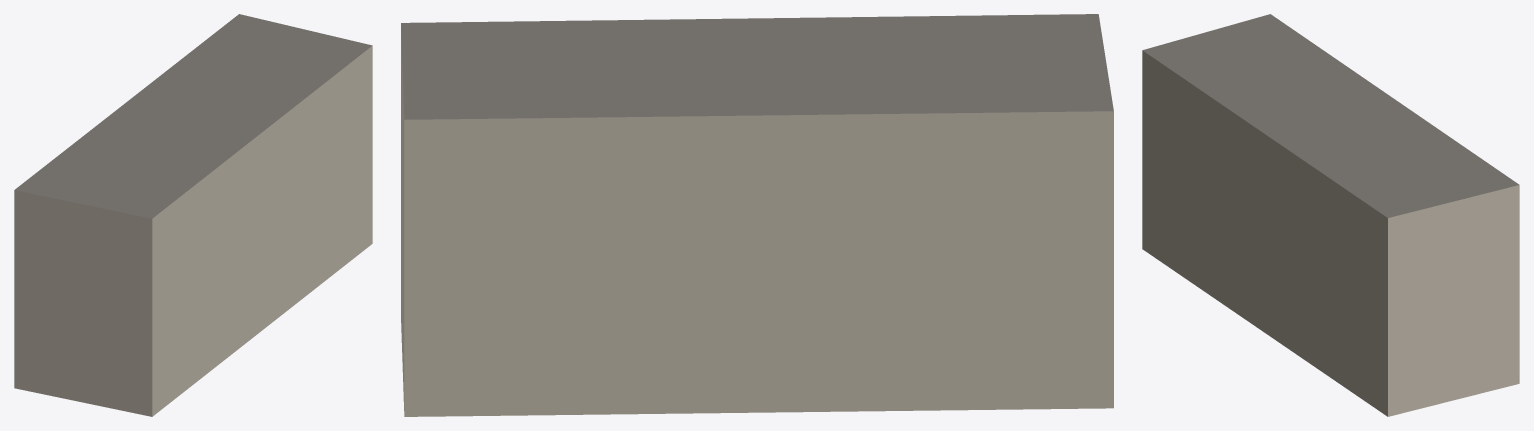
3 views of the same model, side by side, from view 1: azimuth 30°, elevation 25°; view 2: azimuth 150°, elevation 25°; view 3: azimuth 270°, elevation 25° (orthographic). The views are drawn at different scales.
Parts seen in each view (by area): view 1: HP-w505633371; view 2: HP-w505633371; view 3: HP-w505633371.
Boxes of the visible parts, <box> form: HP-w505633371: <box>14,14,372,416</box>; HP-w505633371: <box>401,14,1113,416</box>; HP-w505633371: <box>1142,14,1519,416</box>.
Bounding box in the file's own units: 39.63 × 18 × 30.97.
